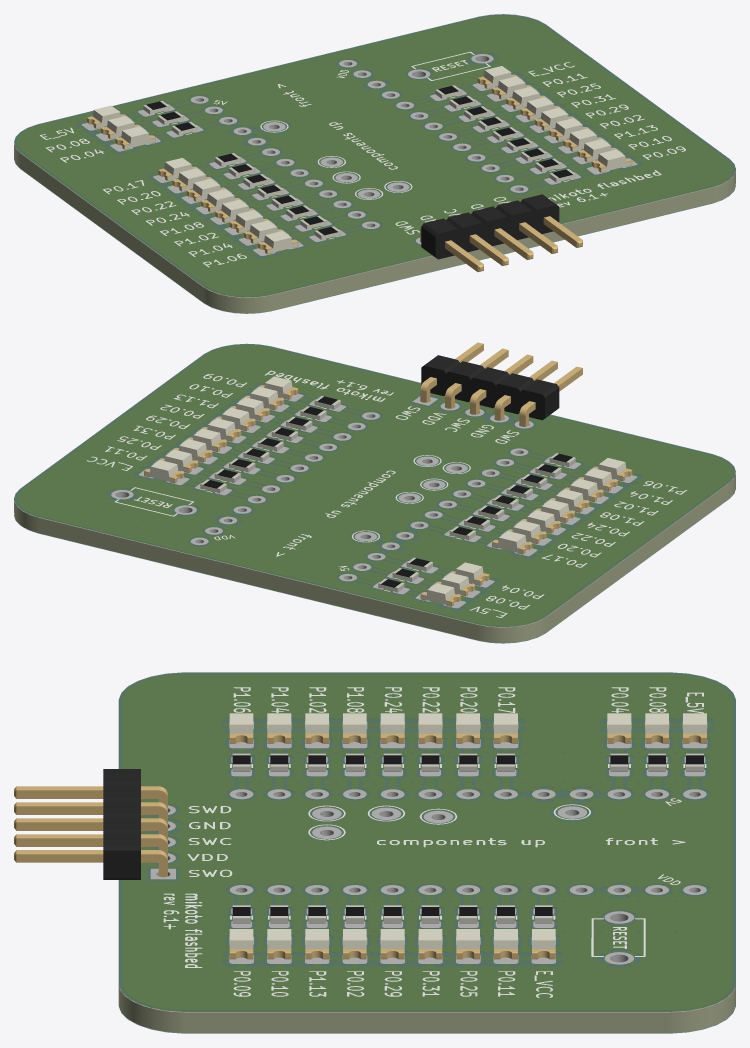
File: board.glb
3 renders of one model, top to bottom at view 1: azimuth 30°, elevation 25°; view 2: azimuth 150°, elevation 25°; view 3: azimuth 270°, elevation 25°, orthographic. The views are drawn at different scales.
Visible parts, largest first — view 1: board_soldermask (×2), board_copper, board_PCB, LED_1206_3216Metric_Castellated (×20), board_pad, PinHeader_1x05_P254mm_Horizontal, board_silkscreen; view 2: board_soldermask (×2), board_copper, board_PCB, LED_1206_3216Metric_Castellated (×20), board_pad, PinHeader_1x05_P254mm_Horizontal, board_silkscreen; view 3: board_soldermask (×2), board_copper, board_PCB, LED_1206_3216Metric_Castellated (×20), board_pad, PinHeader_1x05_P254mm_Horizontal, board_silkscreen.
Boxes of the visible parts, box(x1,y1,x2,y2) form: board_soldermask (×2): box(14, 14, 735, 313); board_copper: box(17, 16, 732, 295); board_PCB: box(14, 15, 735, 313); LED_1206_3216Metric_Castellated (×20): box(87, 66, 632, 254); board_pad: box(82, 54, 637, 255); PinHeader_1x05_P254mm_Horizontal: box(420, 194, 582, 271); board_silkscreen: box(40, 51, 685, 267); board_soldermask (×2): box(14, 343, 735, 643); board_copper: box(17, 346, 732, 625); board_PCB: box(14, 345, 735, 642); LED_1206_3216Metric_Castellated (×20): box(144, 376, 632, 606); board_pad: box(111, 385, 637, 608); PinHeader_1x05_P254mm_Horizontal: box(420, 342, 582, 426); board_silkscreen: box(87, 370, 686, 617); board_soldermask (×2): box(118, 672, 735, 1033); board_copper: box(123, 675, 731, 1010); board_PCB: box(118, 673, 735, 1032); LED_1206_3216Metric_Castellated (×20): box(229, 713, 706, 959); board_pad: box(150, 721, 707, 964); PinHeader_1x05_P254mm_Horizontal: box(14, 769, 167, 879); board_silkscreen: box(163, 687, 706, 997).
Bounding box in the file's own units: 0.054 × 0.00554 × 0.0485.
